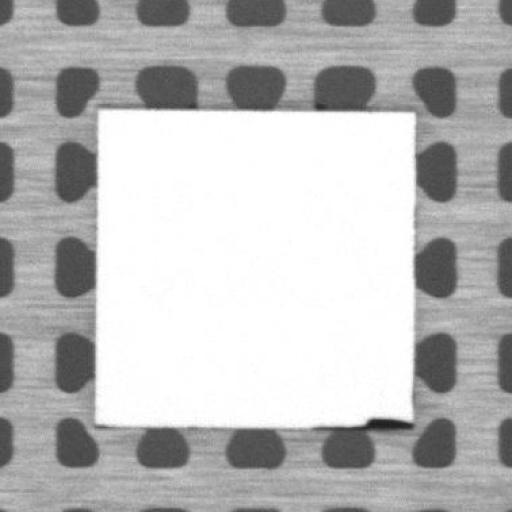DIE_BROKEN: (324, 412, 414, 431)
